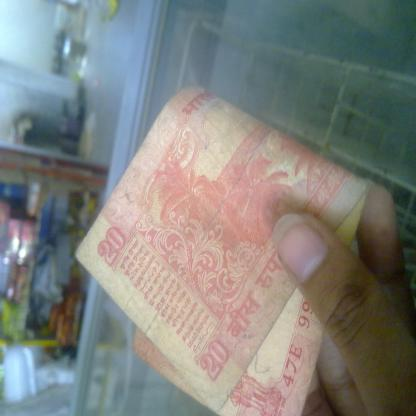Old20Back: (90, 80, 338, 360)
